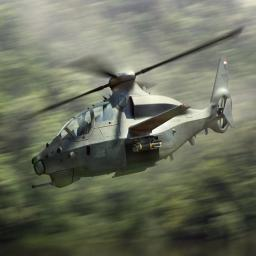helicopter: (31, 29, 242, 191)
